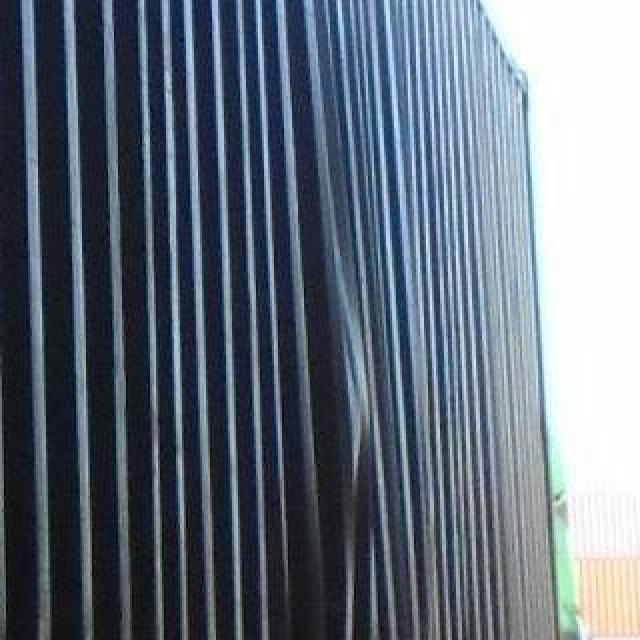Major Dent: (302, 146, 374, 640)
